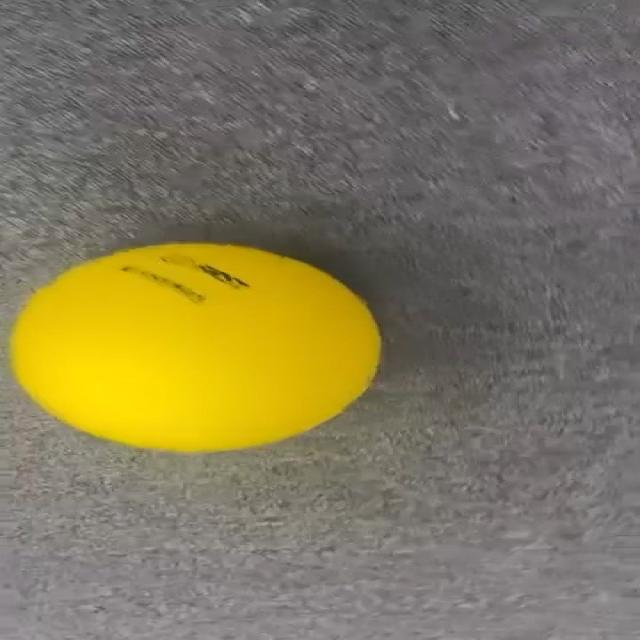Fuels: (12, 244, 377, 449)
